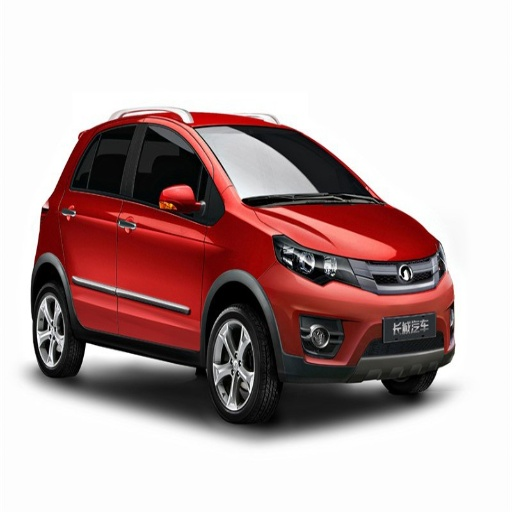front_bumper: (269, 253, 456, 377)
front_right_door: (119, 120, 218, 346)
front_right_light: (273, 235, 357, 284)
